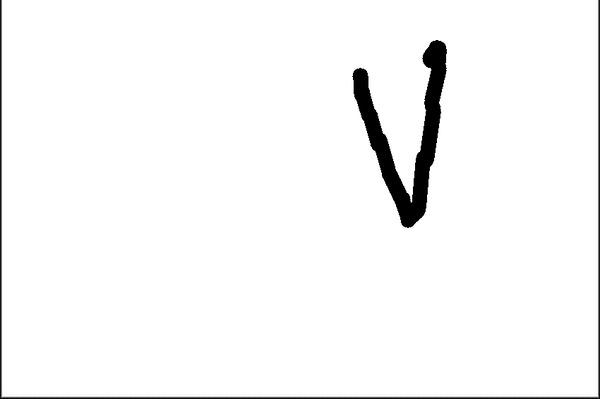V: (331, 33, 460, 227)
